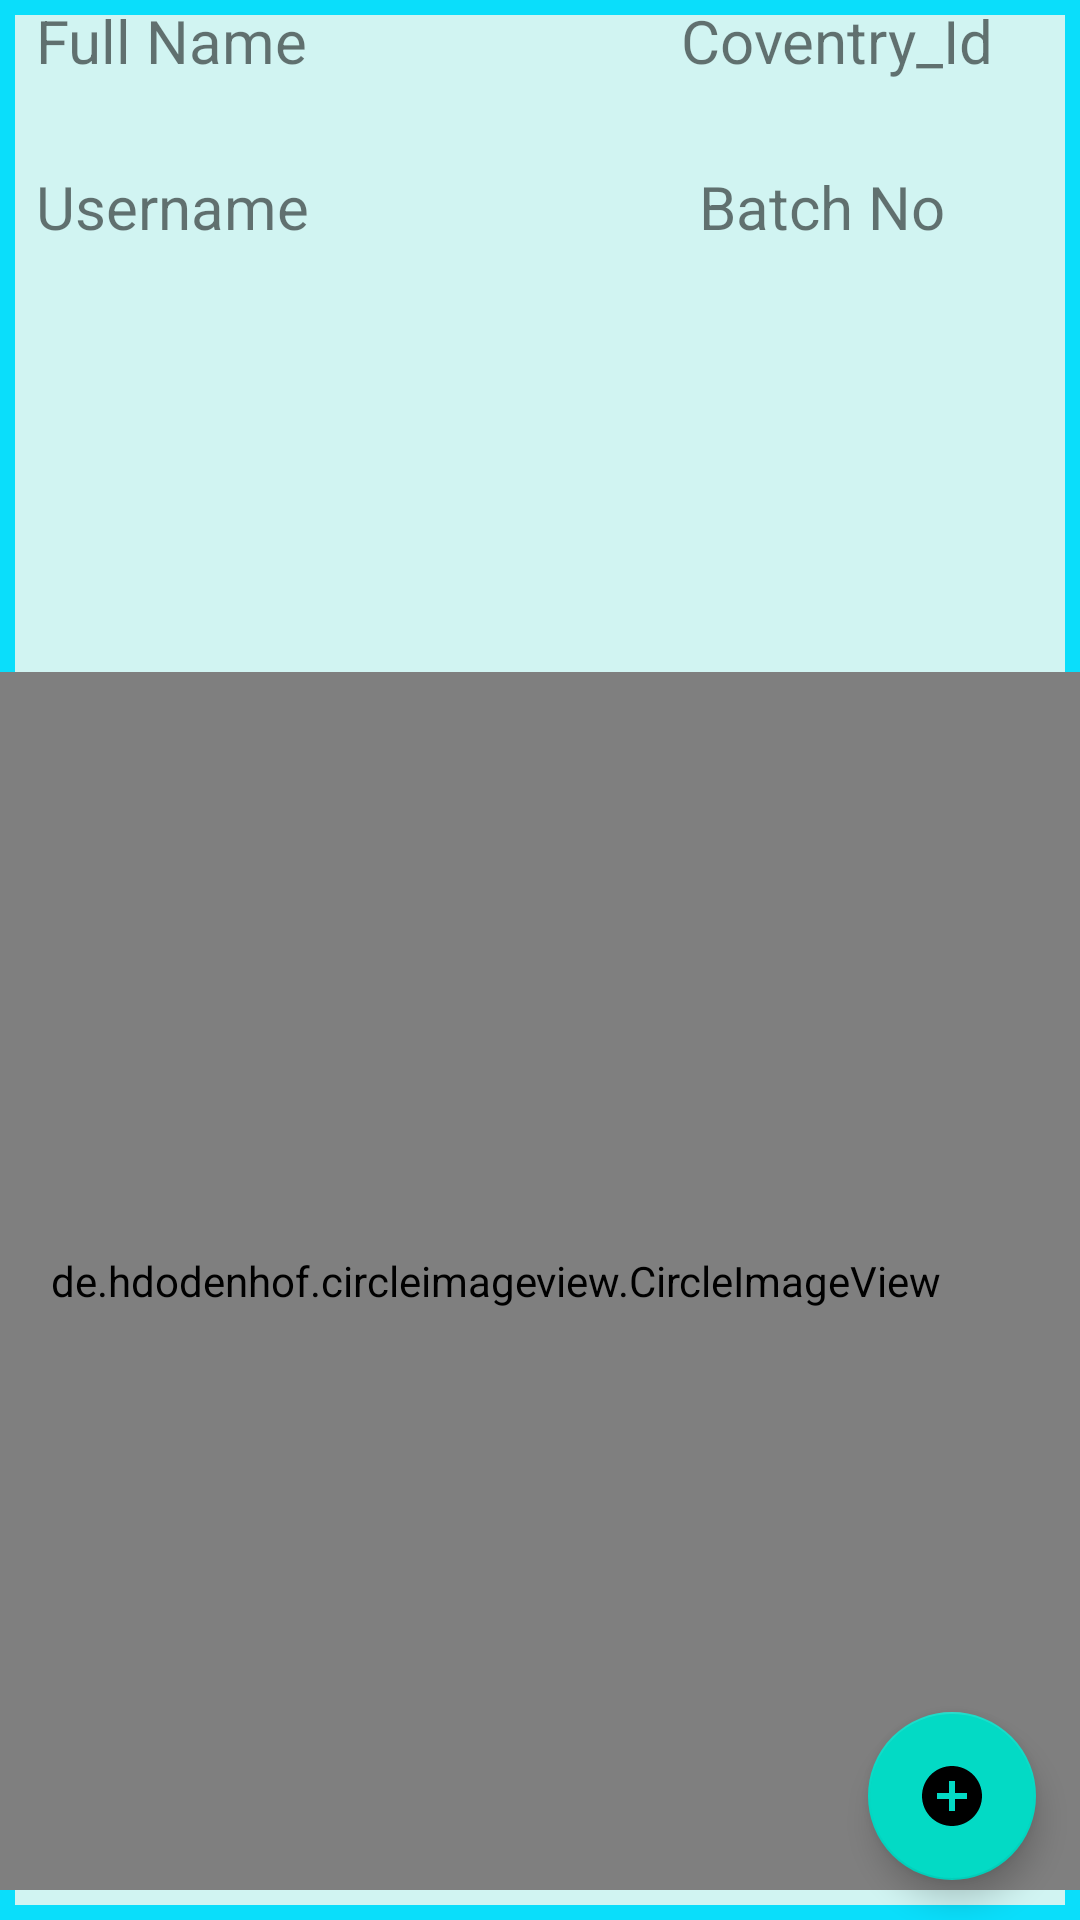

Where to tap for icons on this 1080 × 1920 app screen, as point (x, y):
add circle: point (952, 1796)
